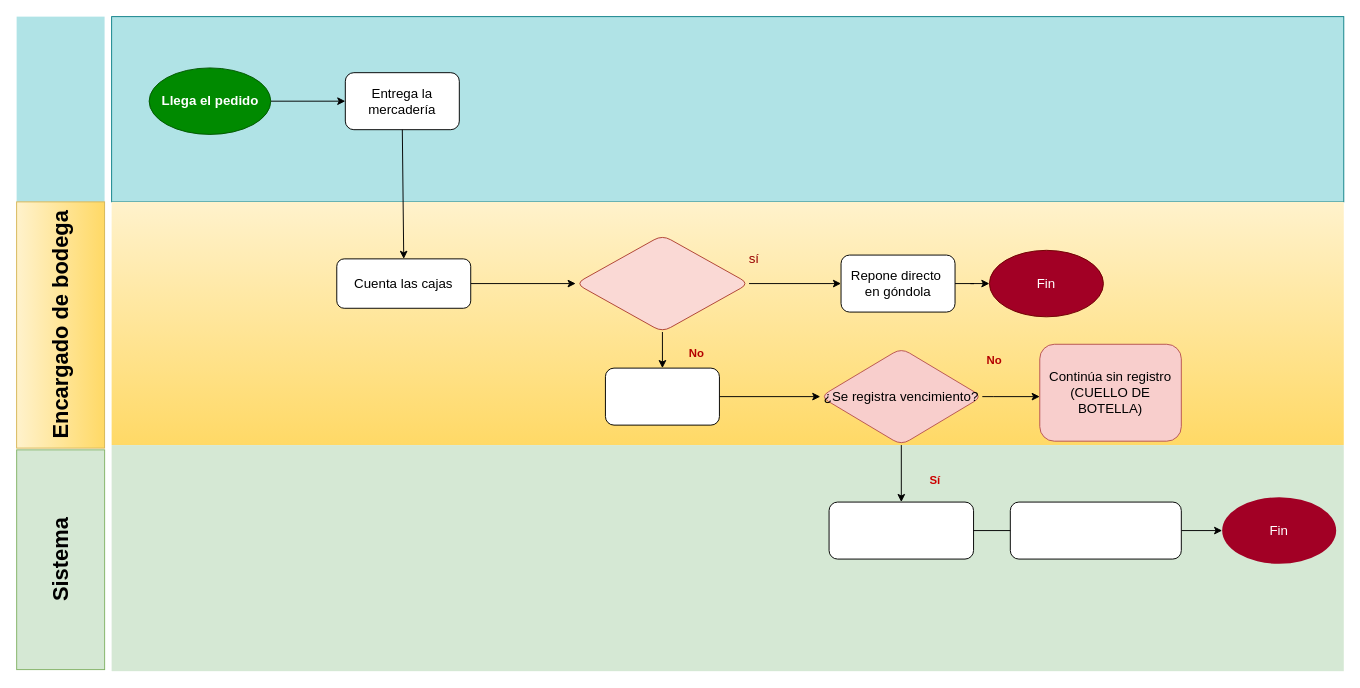
Image size: 1360x688. Some labels were removed from this diagram. The shapes that lost their labels are listed below. From the top down, each one's box as (x1, y1, x2, y2) in pixels, then its label:
(16, 16, 104, 201): Proveedor
(575, 234, 749, 332): ¿Hay espacio en góndola?
(604, 367, 719, 425): Deriva a bodega (cámara)
(828, 501, 974, 559): Registra lote y fecha de vencimiento
(1009, 501, 1181, 559): Ordena salida por FEFO (ORDER BY fecha vencimiento)
